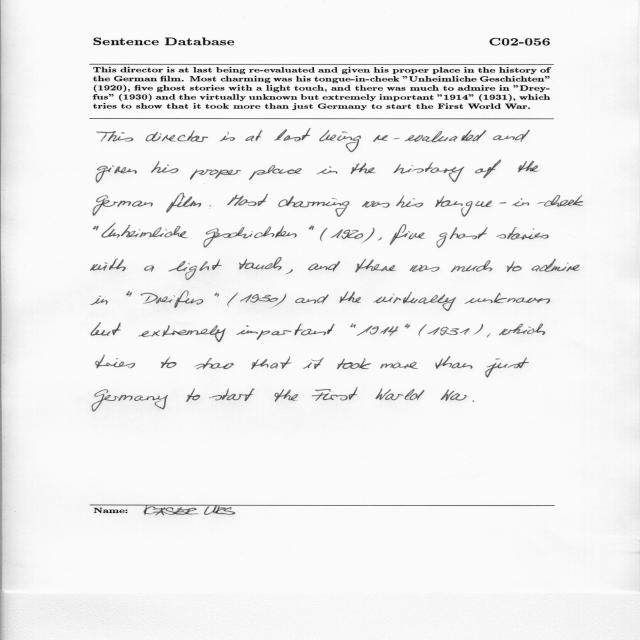word: (435, 195, 583, 217), (203, 226, 297, 248), (92, 389, 168, 412), (373, 292, 456, 311), (237, 324, 335, 340), (278, 196, 350, 217), (138, 325, 226, 342), (394, 162, 464, 182), (373, 130, 486, 142), (102, 223, 189, 238), (93, 195, 153, 216), (168, 259, 222, 280), (141, 290, 203, 308), (436, 227, 488, 248), (465, 292, 550, 304), (319, 130, 361, 152), (485, 358, 529, 378), (249, 165, 301, 180), (146, 130, 208, 142), (96, 165, 137, 183), (390, 224, 425, 245), (167, 193, 202, 213), (496, 227, 549, 240), (240, 293, 286, 307), (531, 259, 580, 272), (312, 388, 358, 401), (376, 389, 425, 401), (209, 388, 254, 401), (190, 169, 241, 180), (239, 257, 282, 270), (499, 324, 545, 336), (355, 259, 396, 272), (251, 357, 292, 370), (96, 355, 135, 368), (435, 356, 473, 369), (227, 194, 268, 206), (451, 260, 492, 272), (274, 129, 311, 142), (475, 160, 501, 178), (90, 259, 126, 272), (357, 326, 399, 337), (194, 358, 235, 369), (493, 130, 530, 142), (97, 131, 133, 142), (91, 323, 121, 336), (427, 327, 470, 336), (337, 358, 371, 369), (309, 261, 341, 272), (151, 161, 178, 173), (396, 196, 423, 208), (441, 389, 468, 401), (331, 229, 363, 239), (275, 389, 299, 402), (350, 163, 376, 174), (380, 362, 418, 369), (340, 291, 361, 303), (518, 161, 539, 172), (303, 358, 324, 369), (410, 265, 440, 272), (245, 130, 263, 141), (362, 201, 390, 208), (362, 228, 375, 243), (186, 389, 200, 402), (317, 166, 338, 174), (507, 261, 522, 272), (161, 357, 176, 368), (227, 293, 238, 307), (91, 296, 108, 305), (220, 132, 235, 142), (295, 298, 316, 304), (317, 294, 329, 304), (474, 324, 484, 335), (419, 324, 427, 336), (320, 228, 327, 241), (144, 265, 154, 272), (286, 270, 293, 275), (126, 291, 132, 296), (350, 323, 356, 328), (309, 225, 314, 230), (214, 292, 219, 297), (93, 226, 99, 230), (405, 324, 410, 328), (378, 237, 382, 241), (487, 333, 490, 338), (210, 205, 212, 207), (473, 400, 475, 402)
